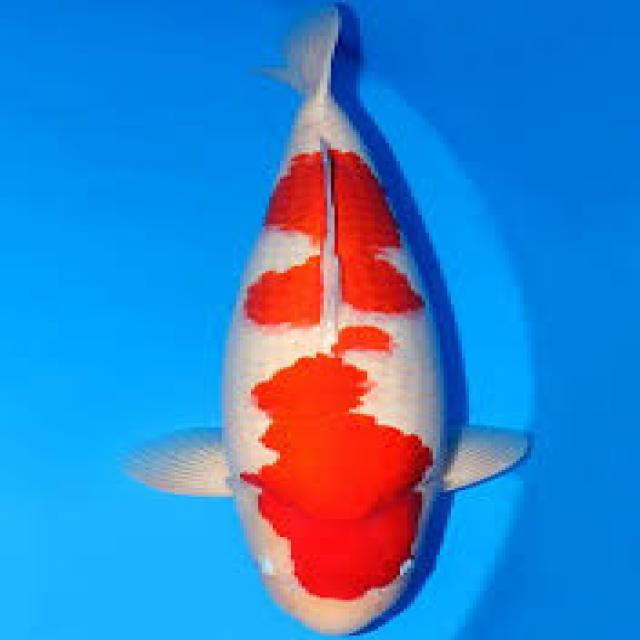Kohaku: (124, 0, 531, 636)
